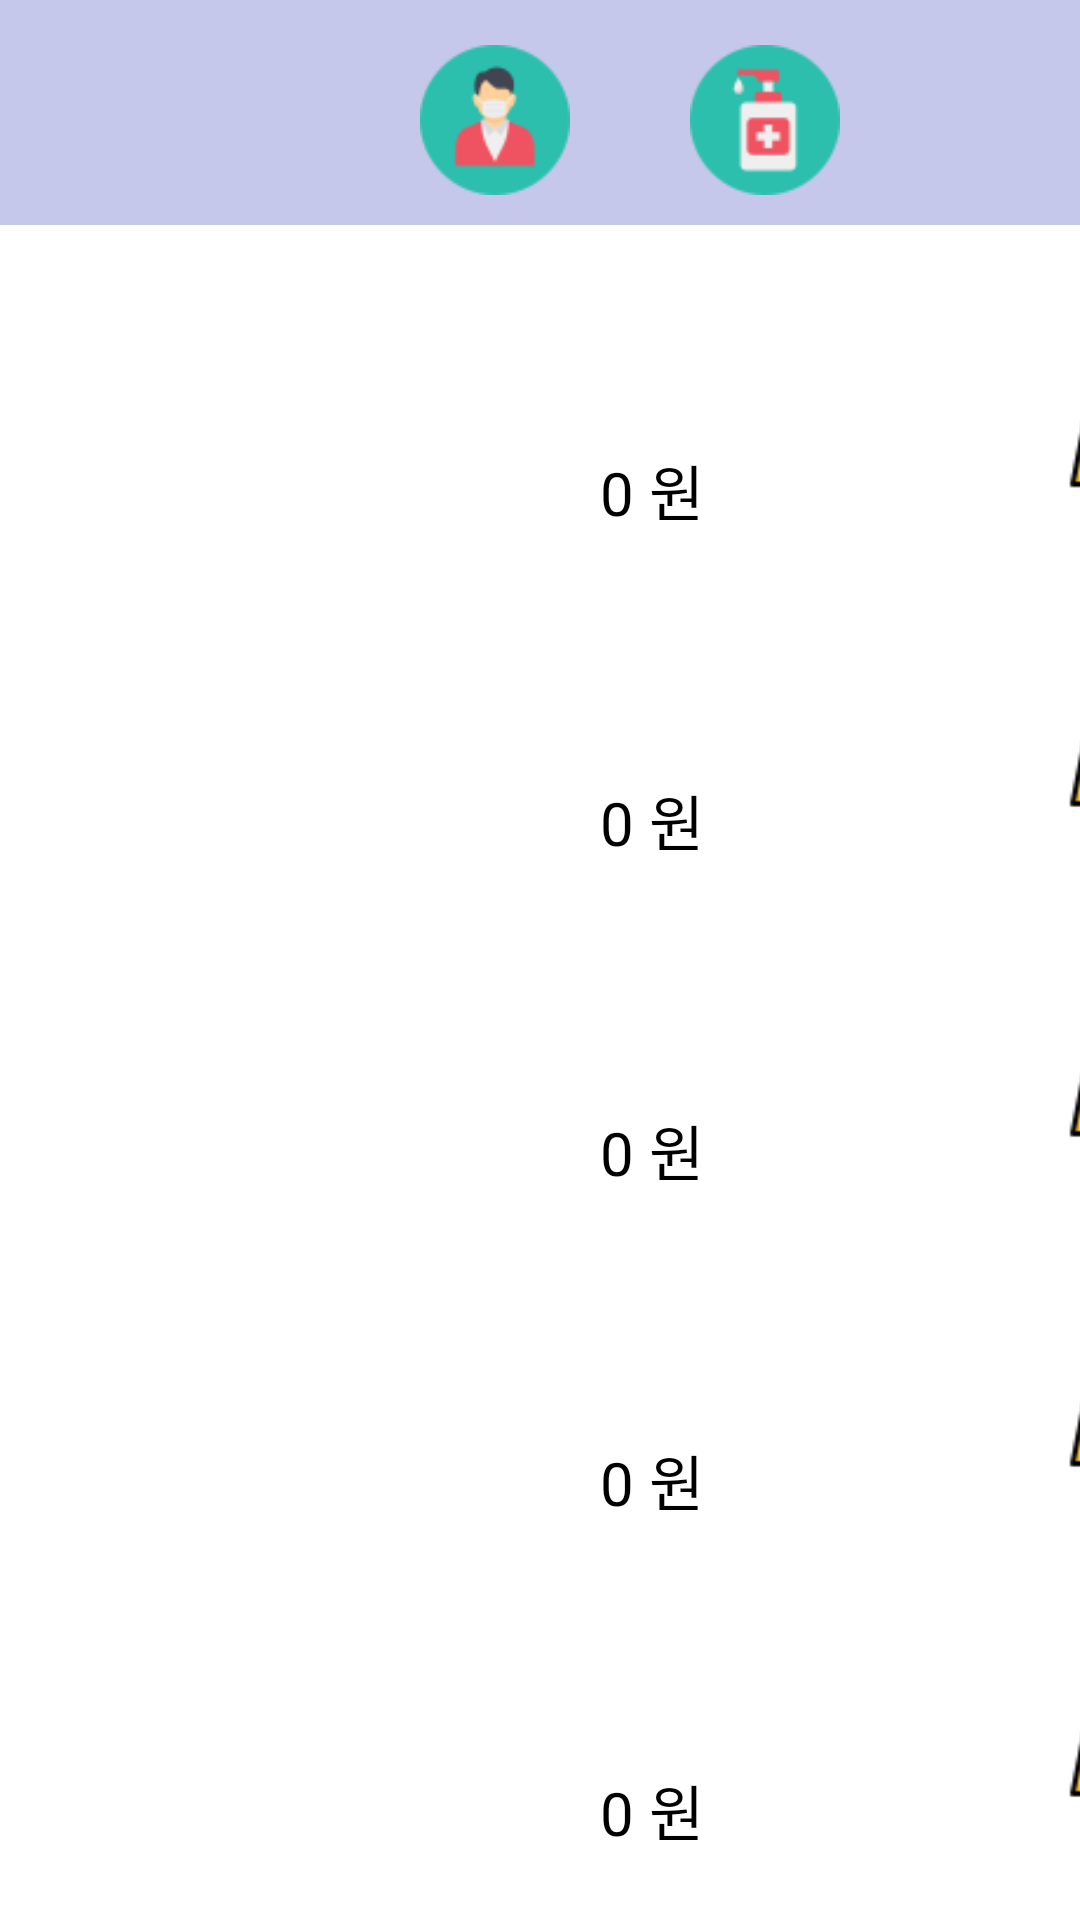

Where to tap for icons on this 1080 x 1920 app screen, as [x,y]:
hand wash: [765,120]
